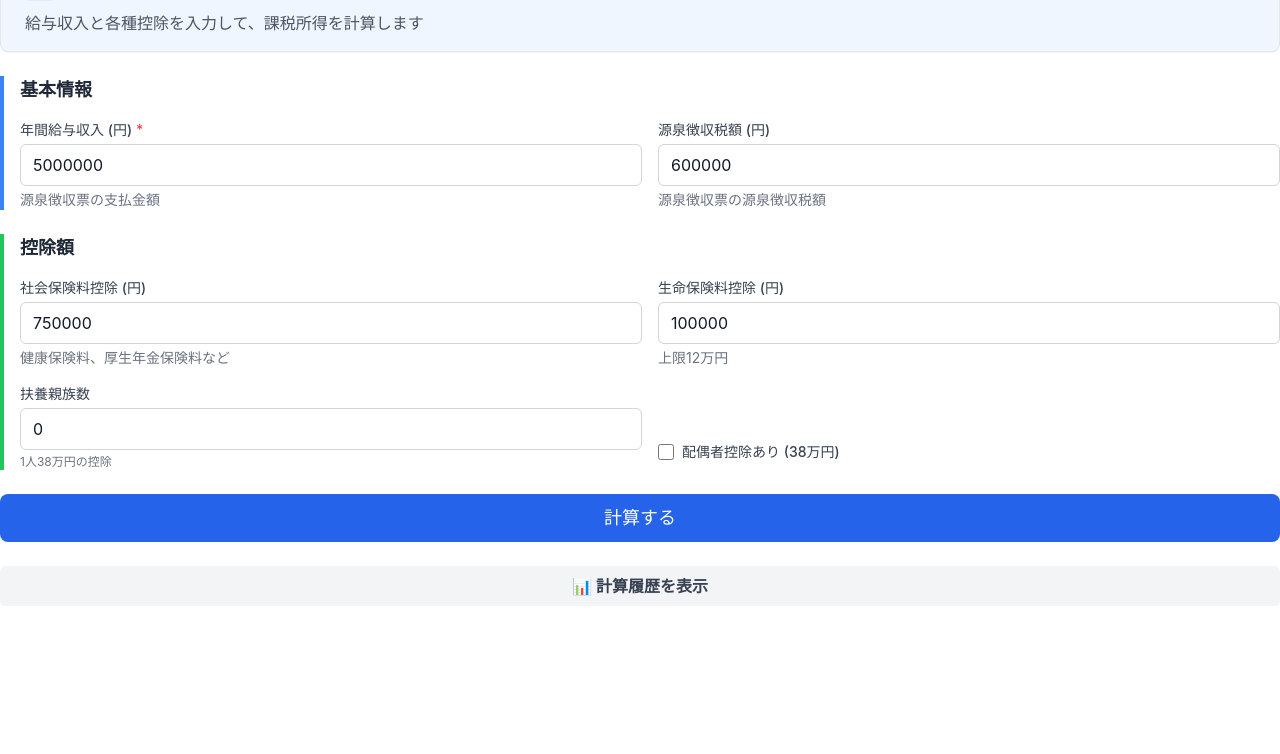
Scenario: SalaryIncomeModule › 年分別の税額表示（還付・納付） › 旧形式（v1）の結果では差引表示を出さない
Click the button "計算する" at (640, 518), box [0, 494, 1279, 542]
(page scrolled)
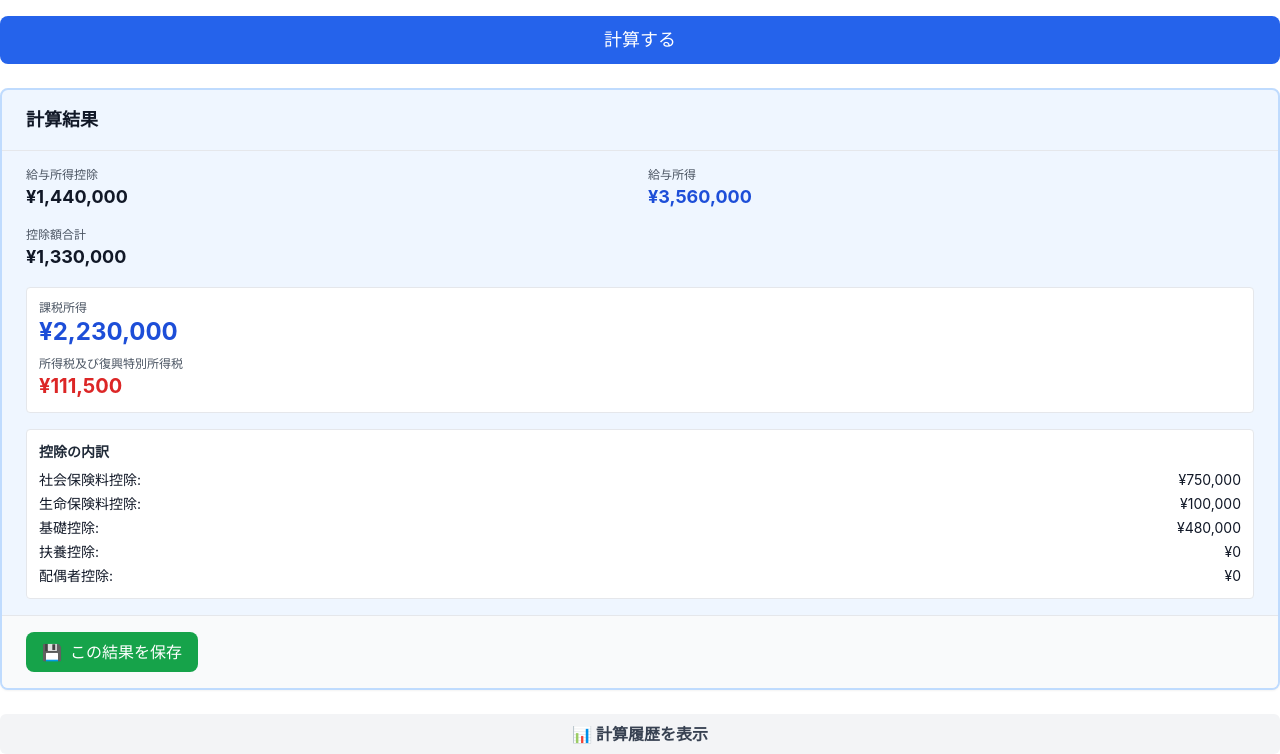
Check: the text "¥111,500" is shown, box [39, 374, 122, 398]
